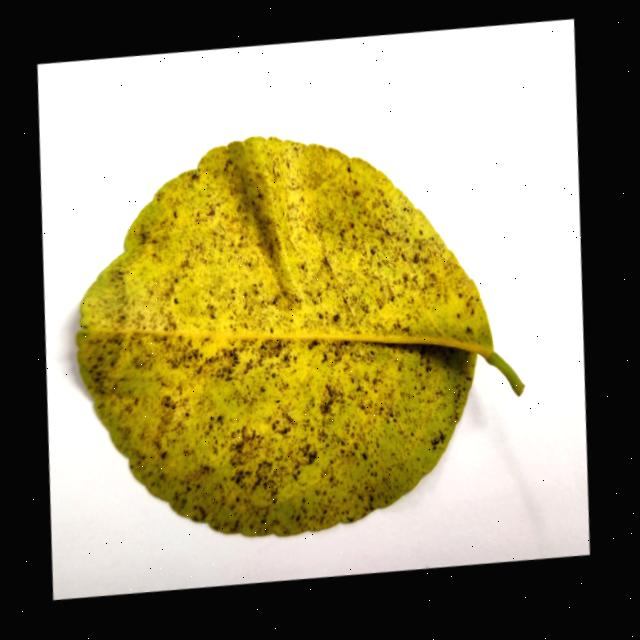melanose: (76, 136, 523, 535)
